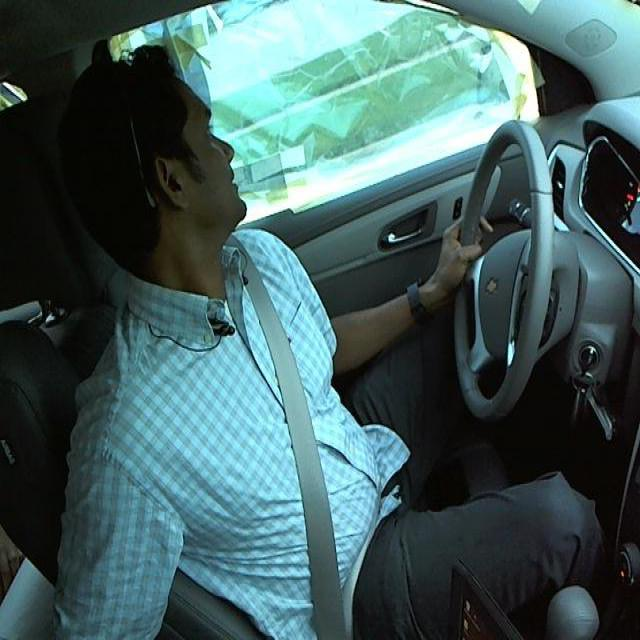seatbelt: (234, 252, 365, 617)
